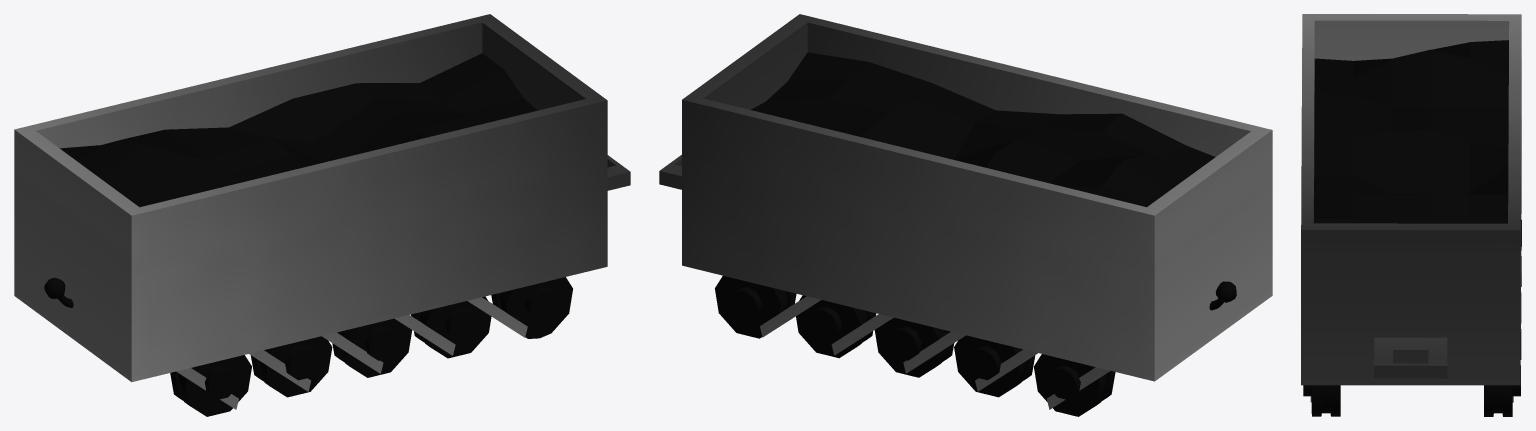
File: Train_01.fbx
3 renders of one model, left to right at view 1: azimuth 30°, elevation 25°; view 2: azimuth 150°, elevation 25°; view 3: azimuth 270°, elevation 25°, orthographic. The views are drawn at different scales.
Parts seen in each view (by area): view 1: Train_01; view 2: Train_01; view 3: Train_01.
Part boxes in pixels (box(x1,y1,x2,y2)): Train_01: box(14, 14, 630, 416); Train_01: box(659, 14, 1272, 416); Train_01: box(1301, 14, 1521, 416).
Bounding box in the file's own units: 791 × 307 × 289.
Materials: 1 (1 with a texture image).
